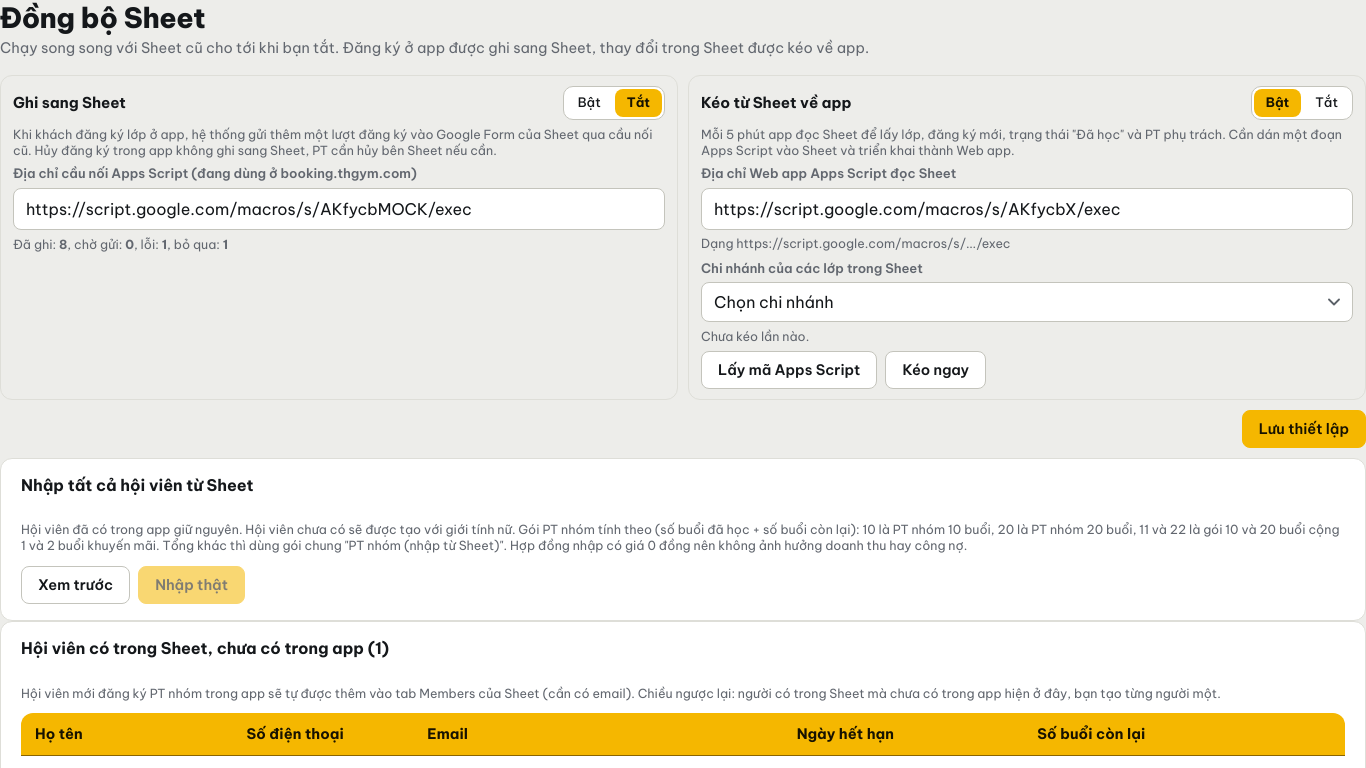
Test case: sheet sync page › previews the import of every Sheet member before writing anything
The image size is (1366, 768).
Click the button "Xem trước": (76, 585) [21,566,130,604]
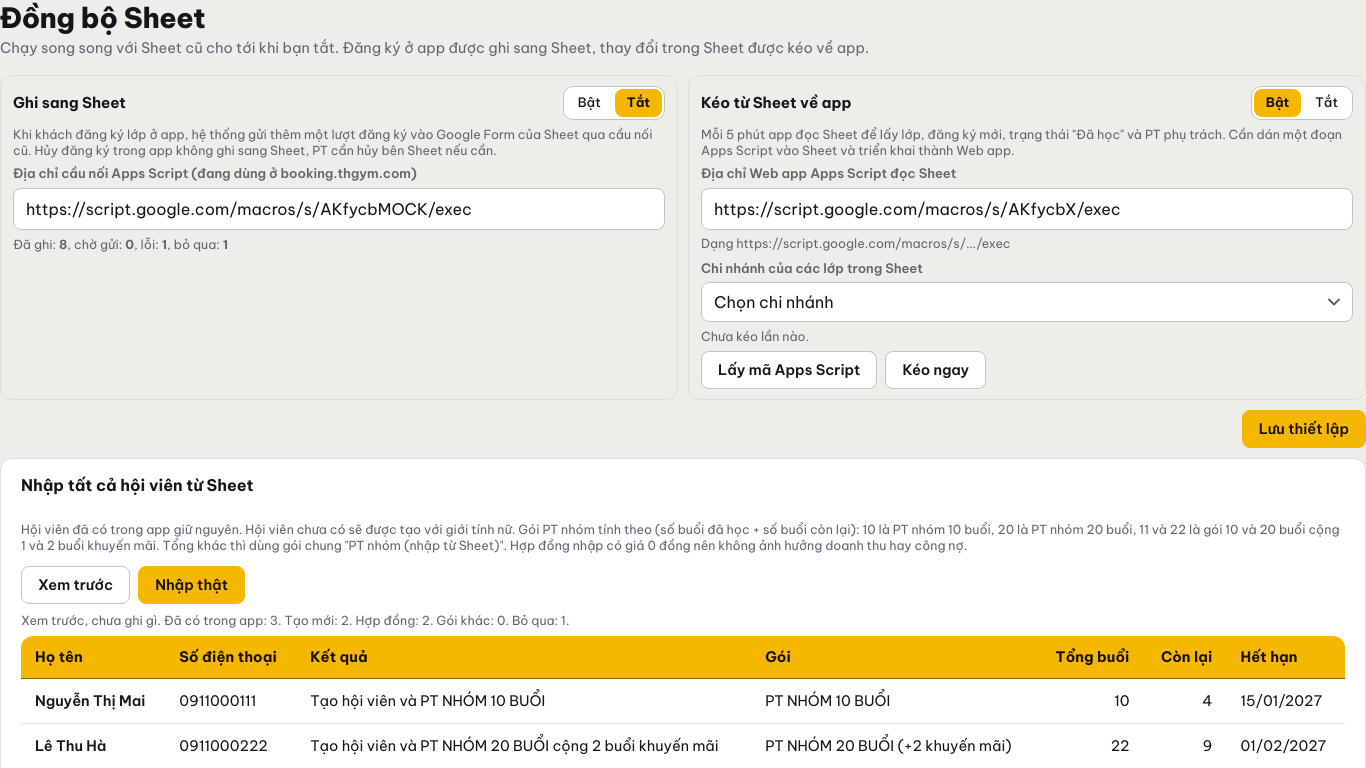
Expected: the text "Xem trước, chưa ghi gì" is shown, [21,612,161,628]
Expected: the text "Tạo hội viên và PT NHÓM 20 BUỔI cộng 2 buổi khuyến mãi" is shown, [296,723,751,767]
Click the button "Nhập thật": (192, 585) [138,566,245,604]
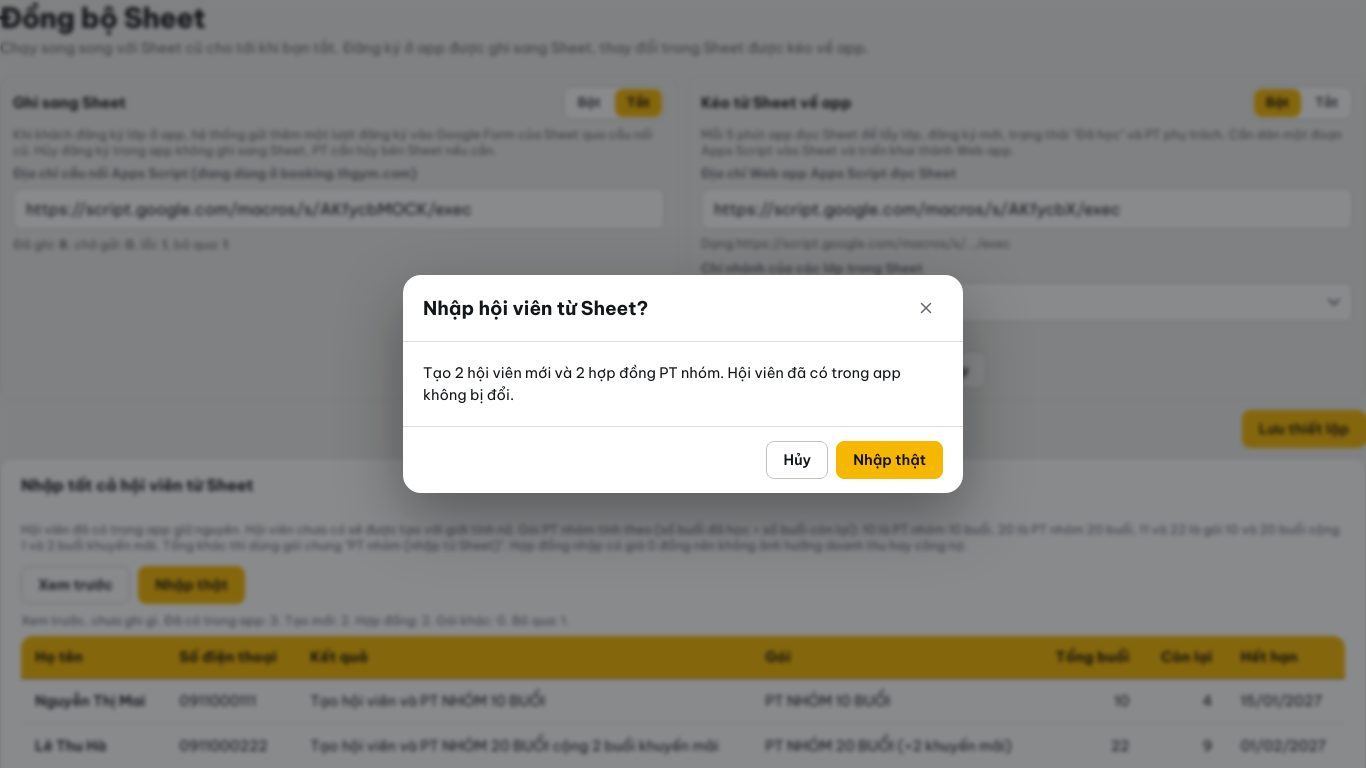
Expected: the number of buttons "Nhập thật" is 2
Click the button "Nhập thật": (890, 460) [836,441,943,479]
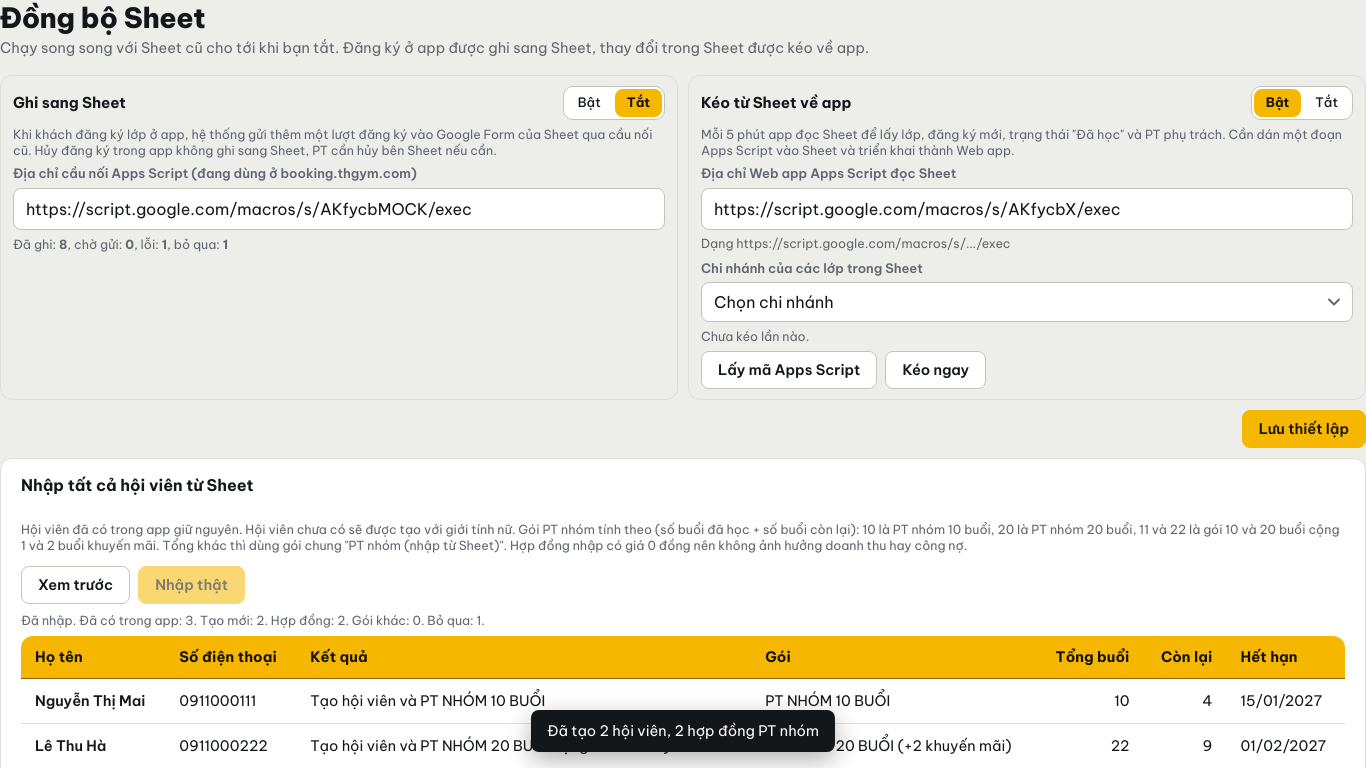
Expected: the text "Đã nhập." is shown, [21,612,76,628]
